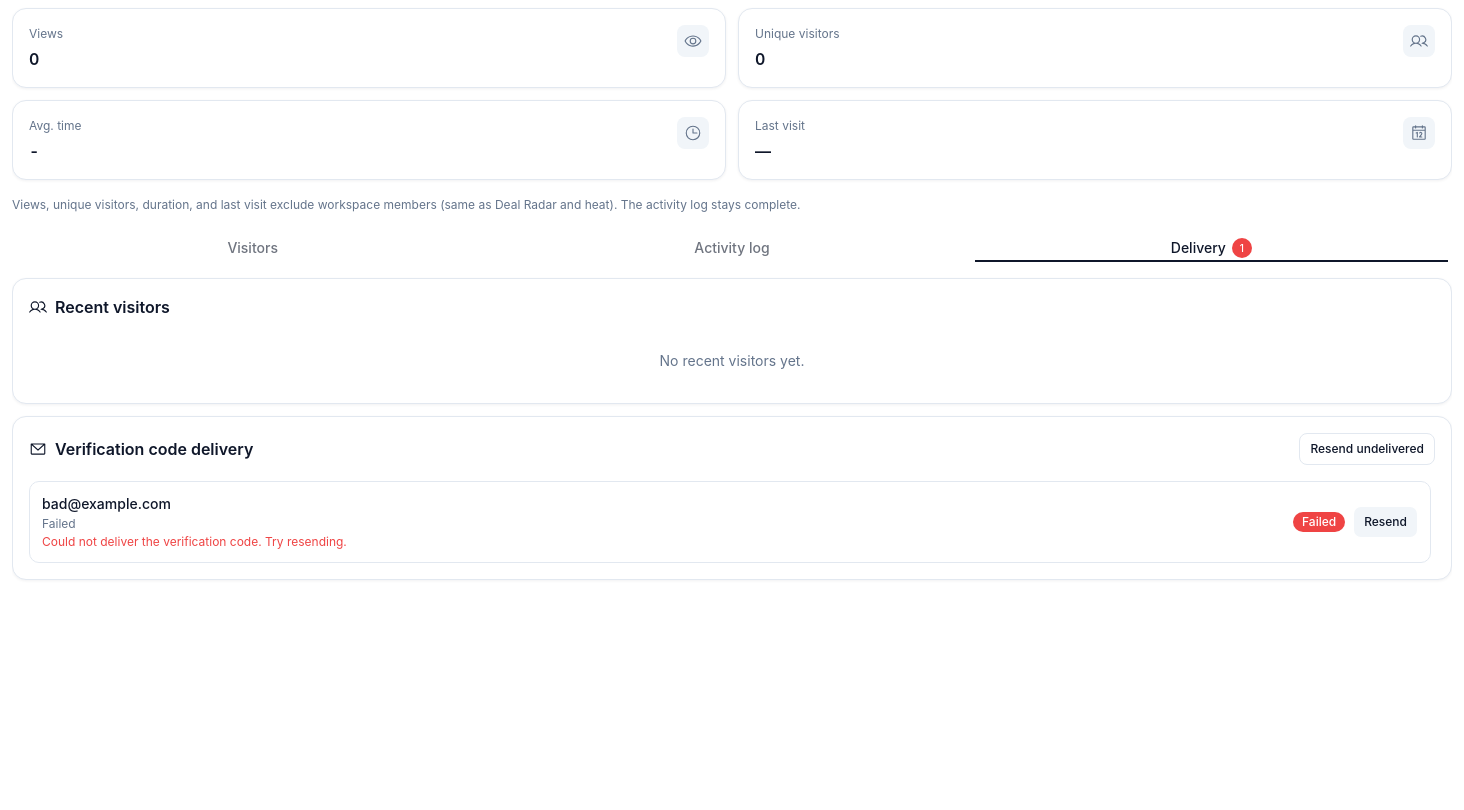
AnalyticsTab › resends only remediable contacts and refreshes analytics
Click the button "Resend". click: [1386, 522]
box: top-left (1353, 506), bottom-right (1418, 538)
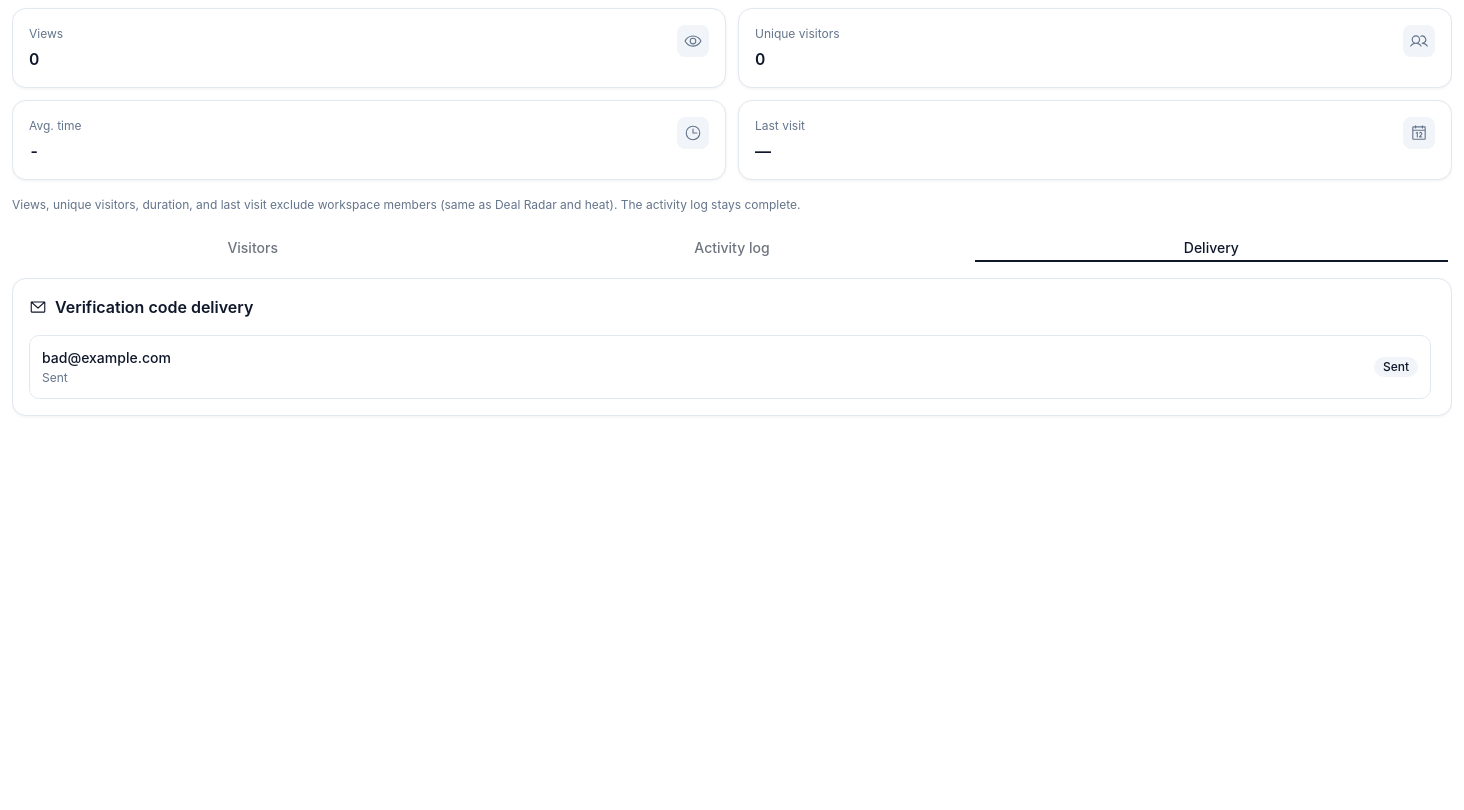
Expected: the button "Resend" is gone
